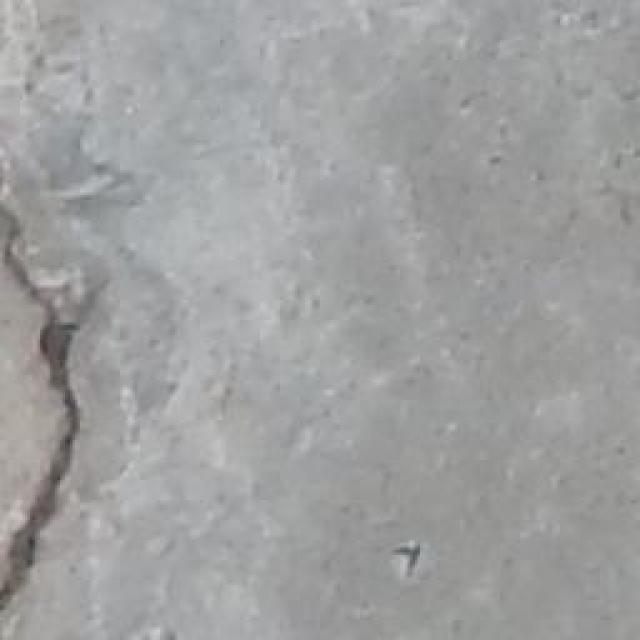concrete-crack: (0, 198, 90, 620)
